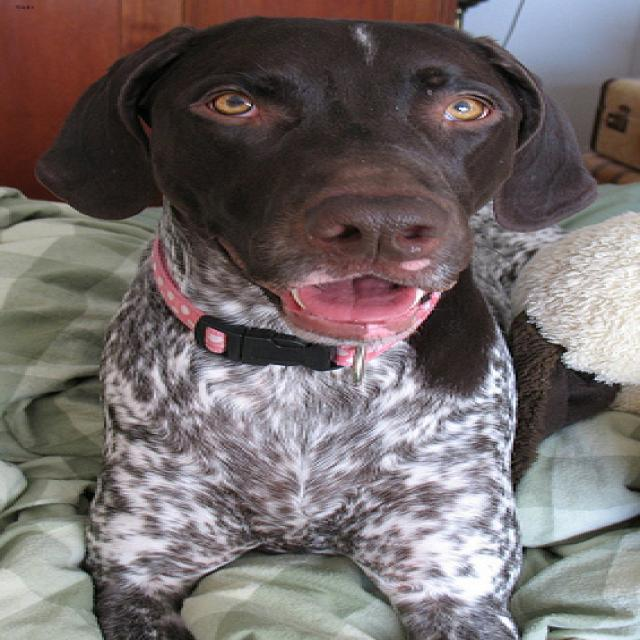dog-german_shorthaired: (11, 1, 620, 637)
